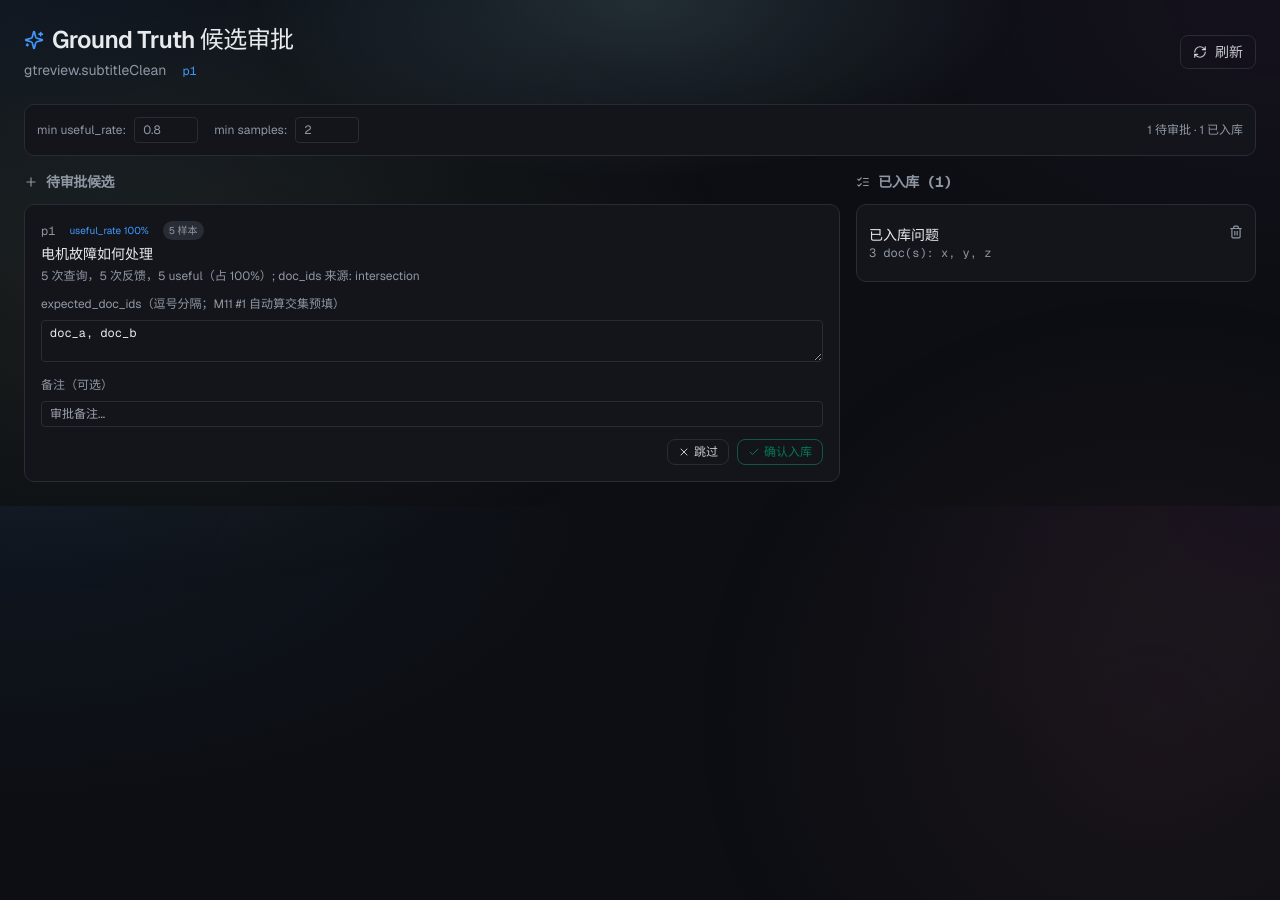
Scenario: GroundTruthReview › confirms a candidate via add API
This screenshot has width=1280, height=900.
Expected: the text "电机故障如何处理" is shown, [41,245,153,263]
Click the button "确认入库" at [780, 452], box [737,439,823,465]
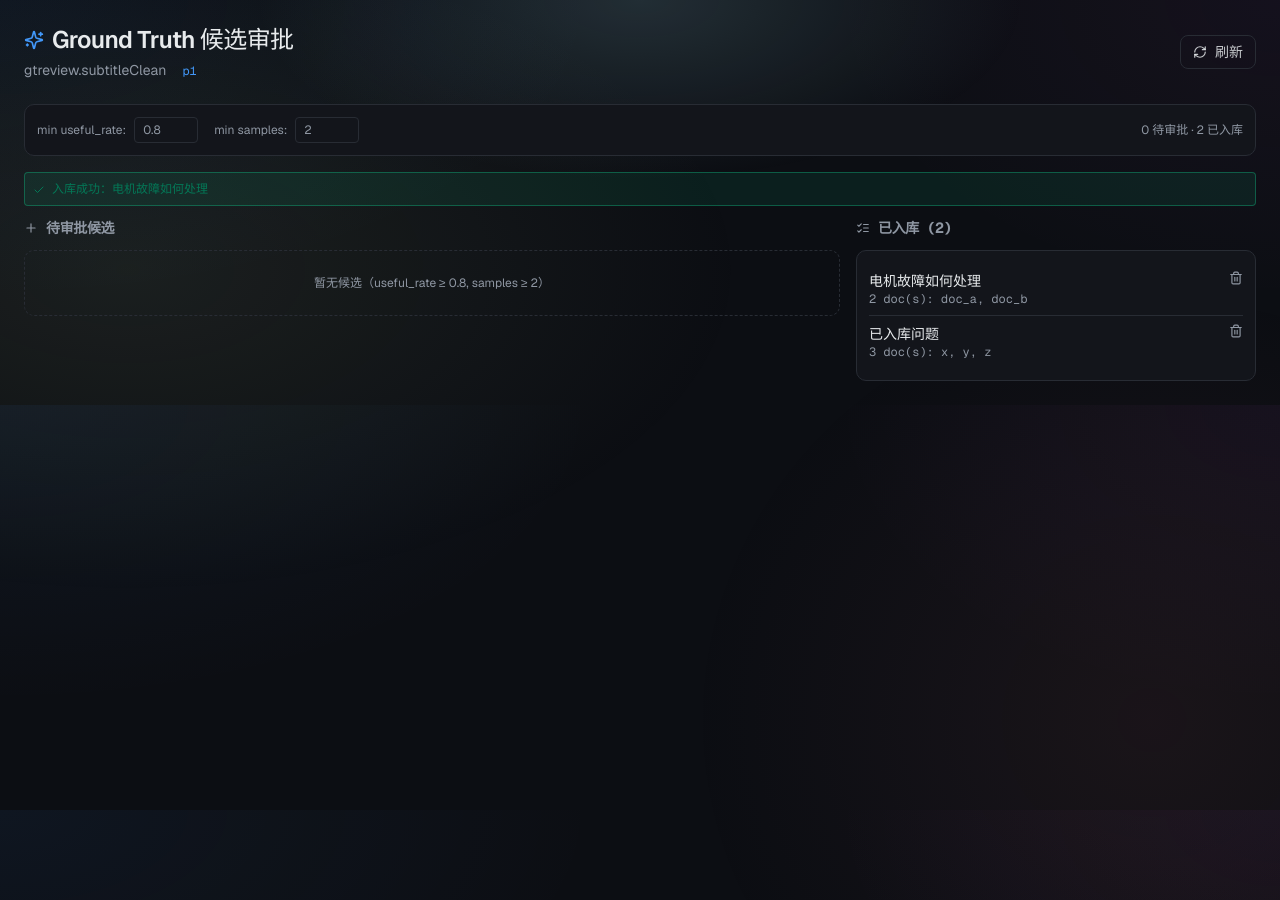
Now the text "入库成功：电机故障如何处理" is shown, box [24,172,1256,206]
